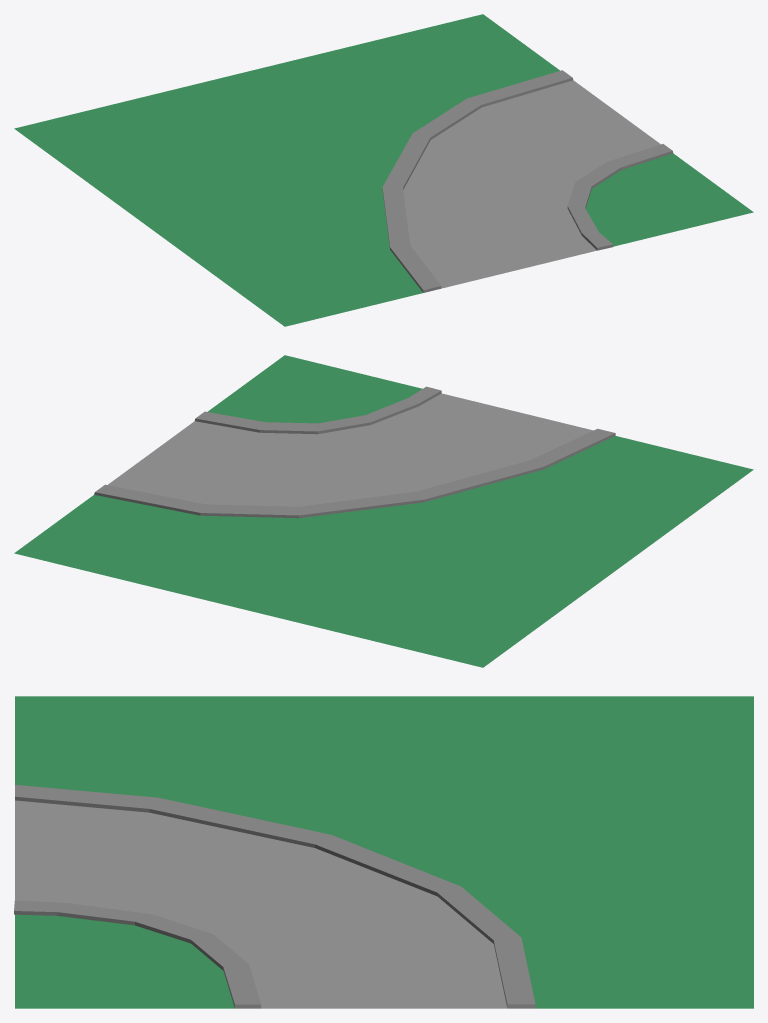
File: Park4-Turn.fbx
The picture shows the model from 3 angles, top to bottom: view 1: azimuth 30°, elevation 25°; view 2: azimuth 150°, elevation 25°; view 3: azimuth 270°, elevation 25°; orthographic projection. The views are drawn at different scales.
Visible parts, largest first — view 1: Park4; view 2: Park4; view 3: Park4.
Part boxes in pixels (x1,y1,x2,y2): Park4: [14, 14, 753, 326]; Park4: [14, 355, 753, 667]; Park4: [14, 696, 753, 1008].
Bounding box in the file's own units: 350 × 1.95 × 351.
